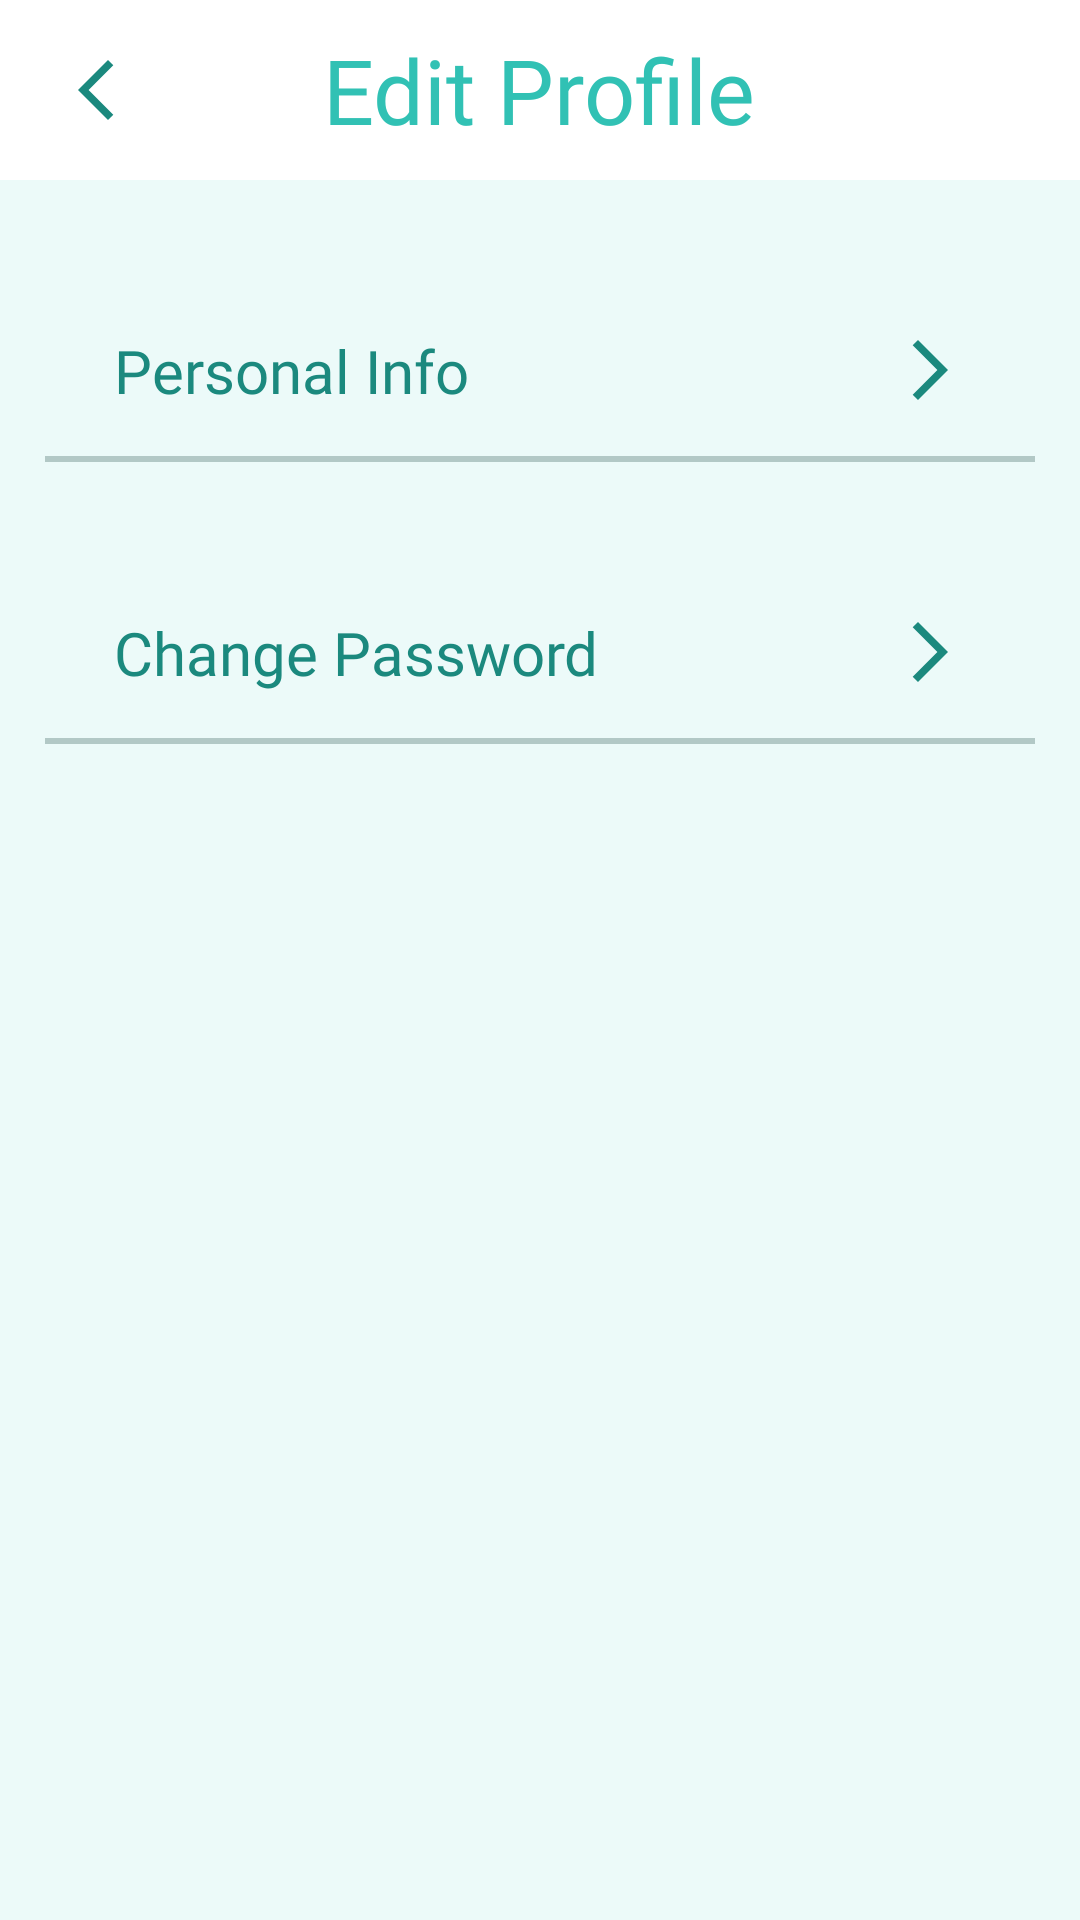

Where icons sit on this 1080 x 1920 app screen, as (x1, y1, x2, y2):
arrow forward editprofile: (913, 340, 948, 400), (913, 622, 948, 682)
